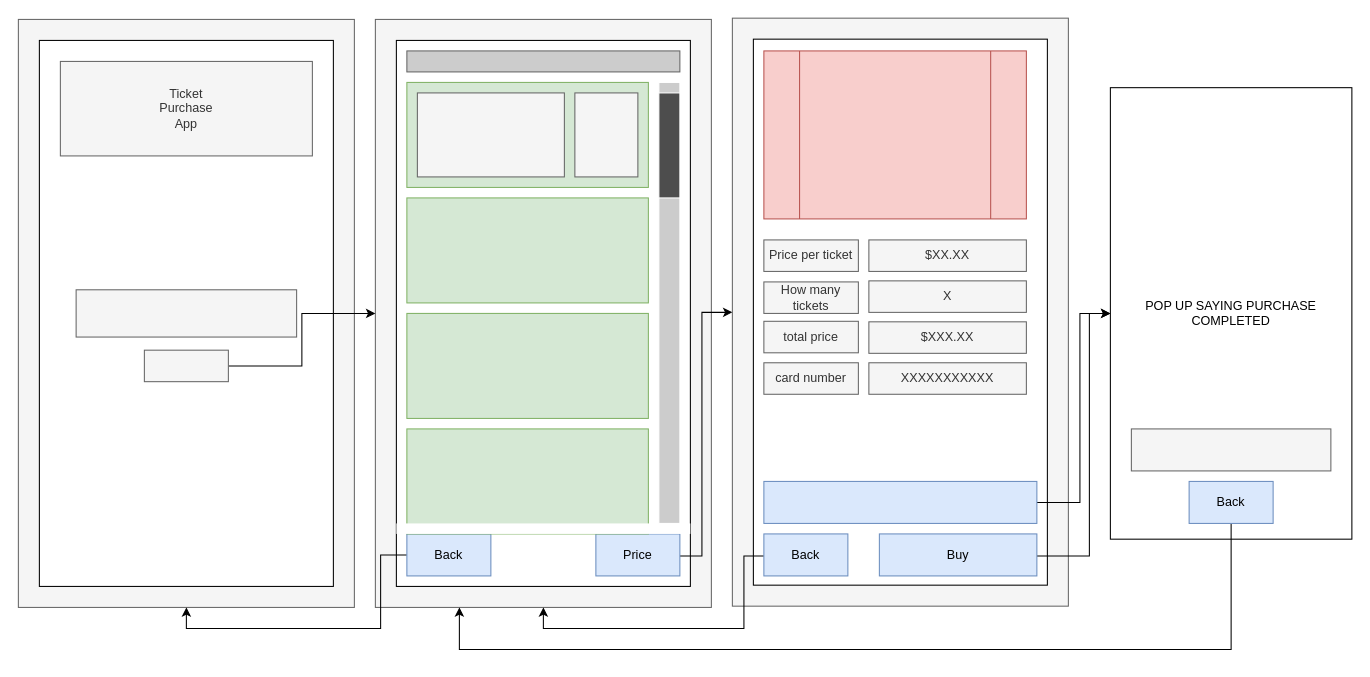
This 1370x677 diagram has some shape labels left out. The centre of each missing label's shape, as x and y in pixels:
band or artist example 1: (490,134)
Code or bar-code: (1230,449)
Enter artist(s):: (186,313)
If already purchased: (900,501)
picture: (894,134)
Search: (185,365)
Search for: XXXXXXXXXXXX: (543,61)
